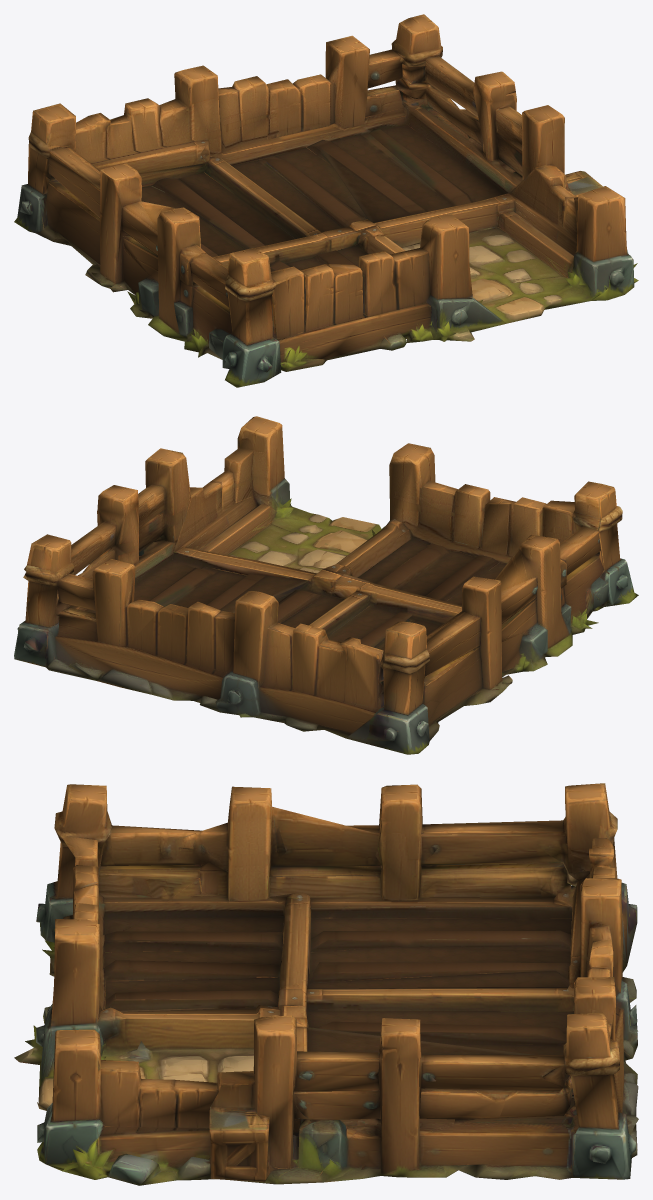
File: Farm1.fbx
3 views of the same model, one above another, from view 1: azimuth 30°, elevation 25°; view 2: azimuth 150°, elevation 25°; view 3: azimuth 270°, elevation 25° (orthographic). The views are drawn at different scales.
Visible parts, largest first — view 1: Mesh_0; view 2: Mesh_0; view 3: Mesh_0.
Part boxes in pixels (box(x1,y1,x2,y2)): Mesh_0: box(14, 14, 638, 387); Mesh_0: box(14, 416, 638, 754); Mesh_0: box(14, 783, 638, 1185).
Bounding box in the file's own units: 191 × 47.65 × 184.
1 material, 1 textured.
